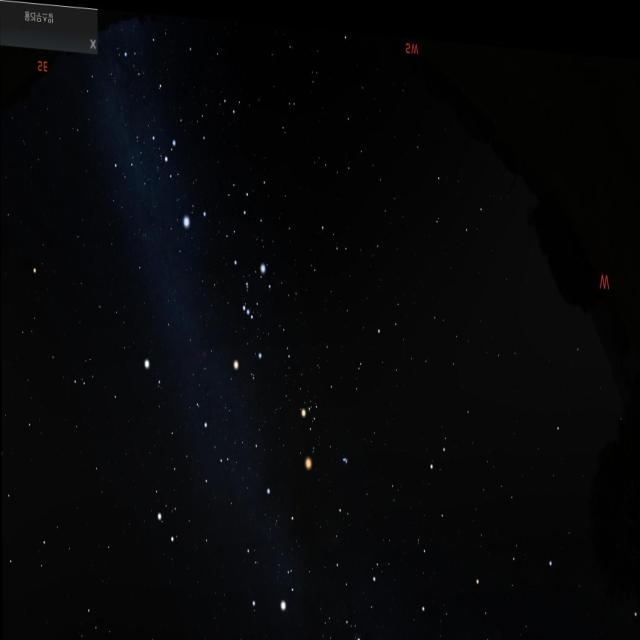canis_major: (162, 122, 214, 228)
canis_minor: (136, 339, 169, 396)
gemini: (146, 387, 248, 567)
orion: (225, 244, 276, 383)
pleiades: (336, 434, 354, 464)
taurus: (282, 350, 364, 480)
